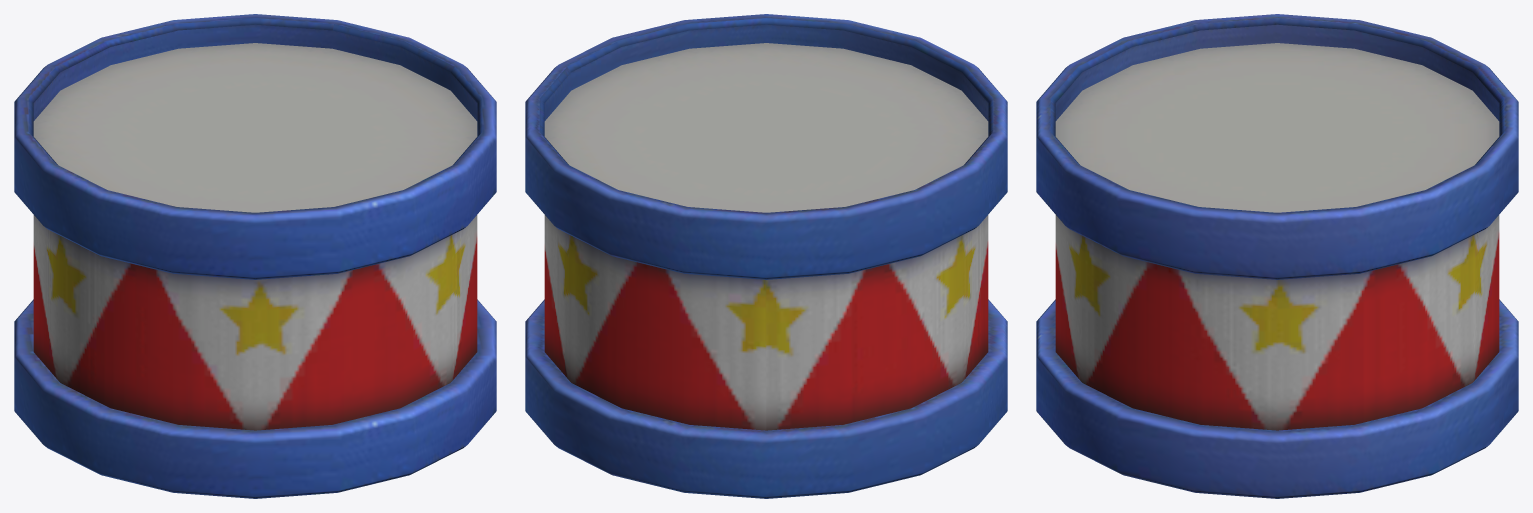
File: 0-drum_blue.fbx
3 renders of one model, left to right at view 1: azimuth 30°, elevation 25°; view 2: azimuth 150°, elevation 25°; view 3: azimuth 270°, elevation 25°, orthographic.
Parts seen in each view (by area): view 1: 0-drum_blue; view 2: 0-drum_blue; view 3: 0-drum_blue.
Boxes of the visible parts, x1=… form: 0-drum_blue: x1=14, y1=14, x2=496, y2=498; 0-drum_blue: x1=525, y1=14, x2=1007, y2=498; 0-drum_blue: x1=1036, y1=14, x2=1518, y2=498.
Size of the model in its own units: 85.51 by 54.3 by 84.21.
